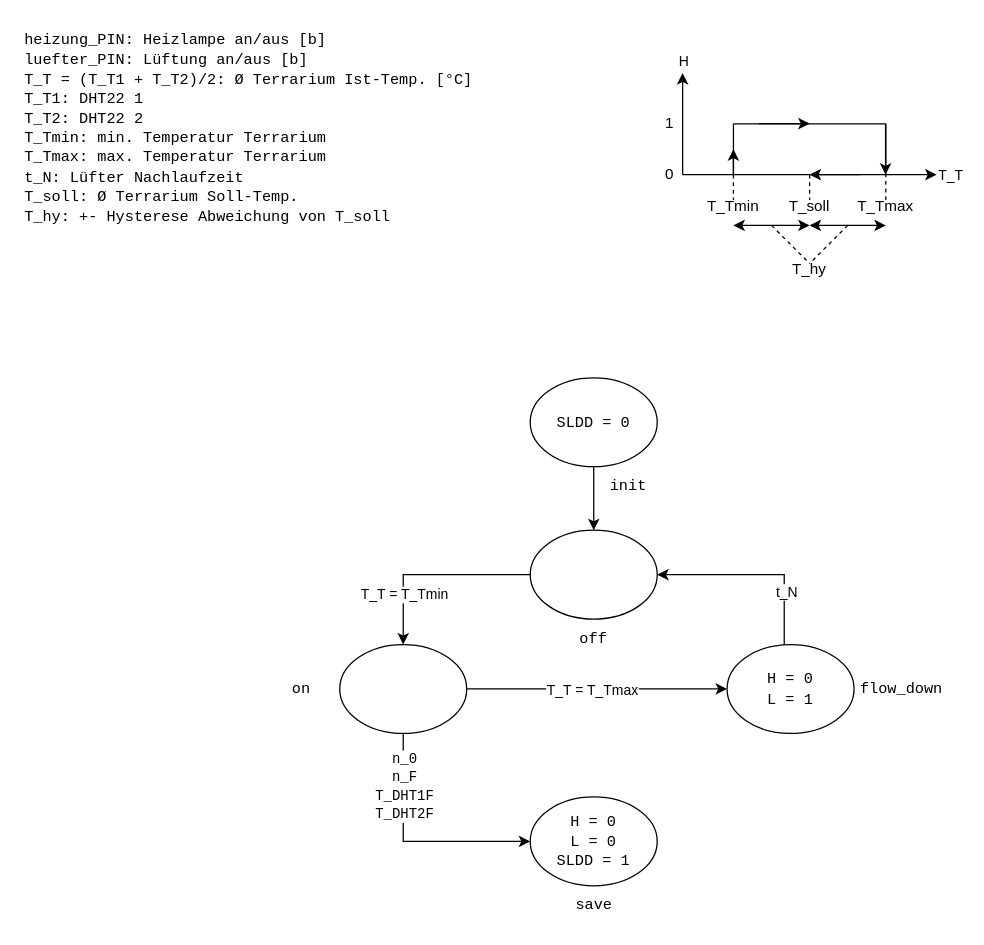
This 984x945 diagram has some shape labels left out. Each missing label, with the box of its shape:
H = 0 L = 0: (529, 529, 657, 619)
H = 1 L = 1: (338, 643, 467, 733)
